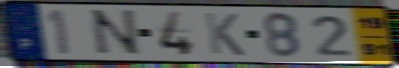1: (45, 8, 71, 56)
2: (310, 14, 355, 58)
4: (158, 10, 196, 57)
8: (261, 11, 302, 60)
K: (202, 11, 248, 58)
N: (88, 9, 145, 57)
